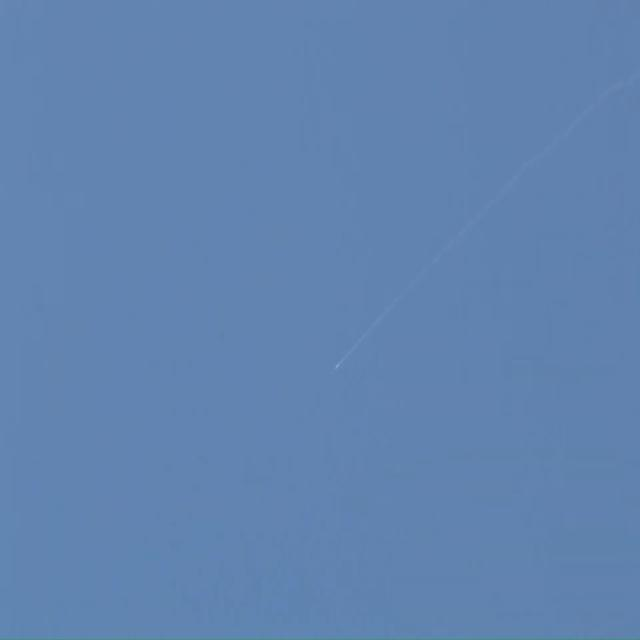Rocket: (334, 364, 338, 372)
